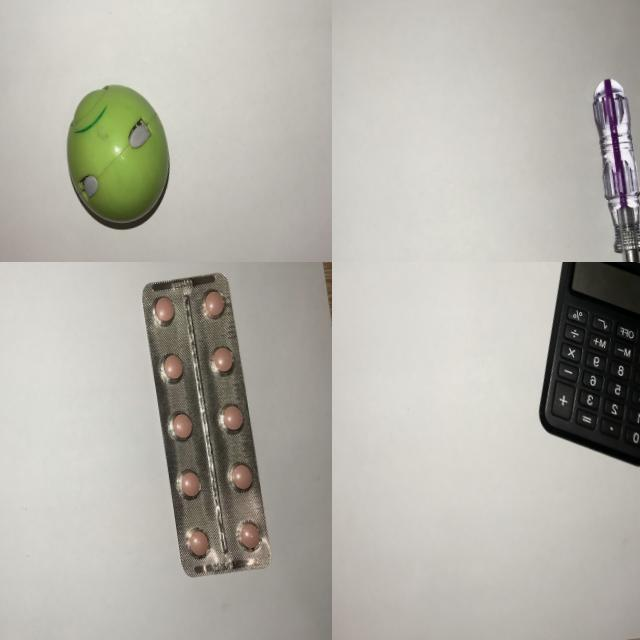calculator: (508, 262, 640, 486)
screwdriver: (580, 69, 640, 262)
tablets: (133, 262, 278, 589)
toy: (51, 67, 186, 244)
